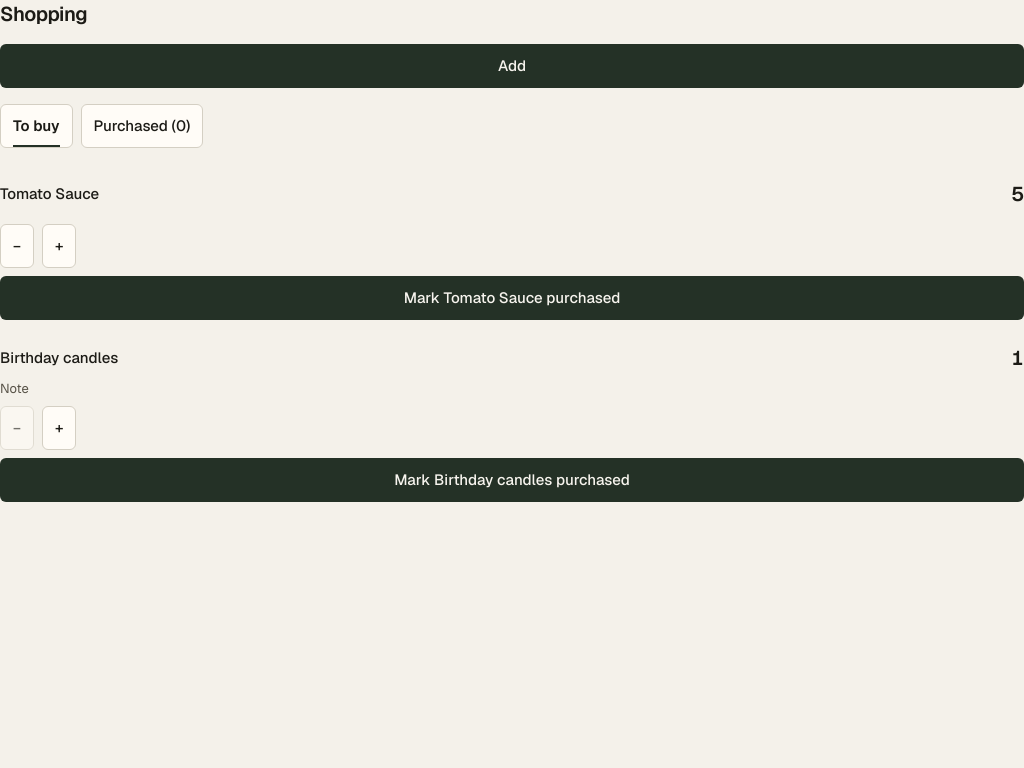
Test: ShoppingOverviewScreen › adds a product shopping item and refreshes lists
This screenshot has width=1024, height=768.
Expected: the heading "Tomato Sauce" is shown, [0,183,99,205]
Click the button "Add": (512, 66) [0,44,1023,88]
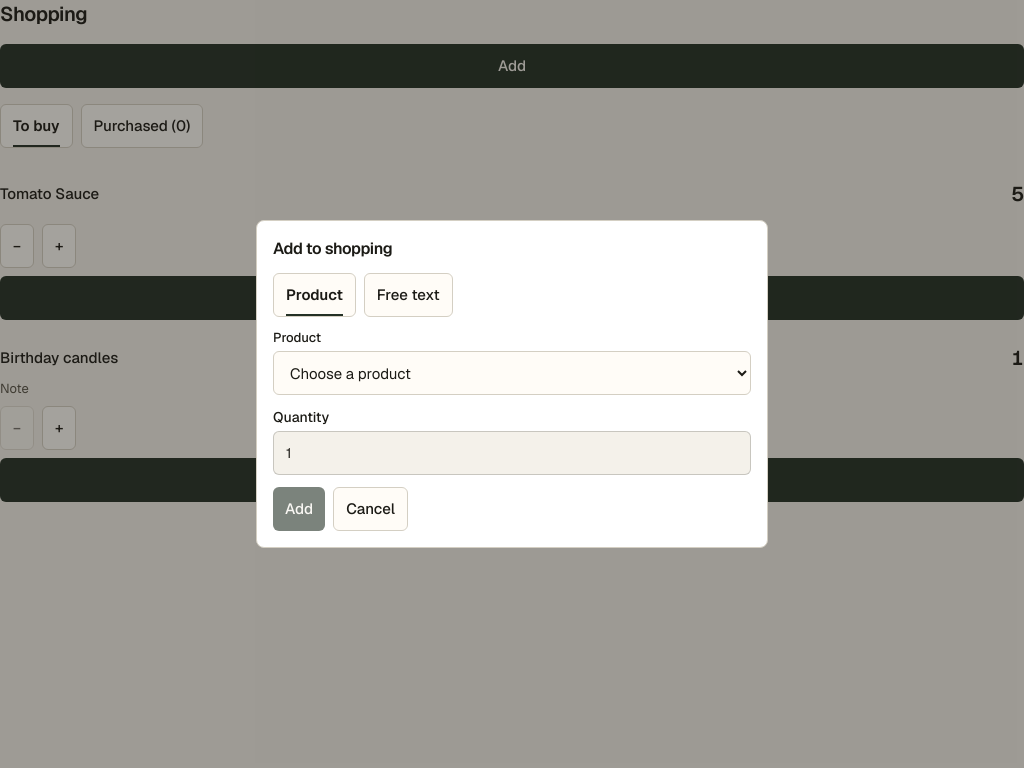
Select "Tomato Sauce" in the dropdown labelled "Product": (512, 373) [273,351,751,395]
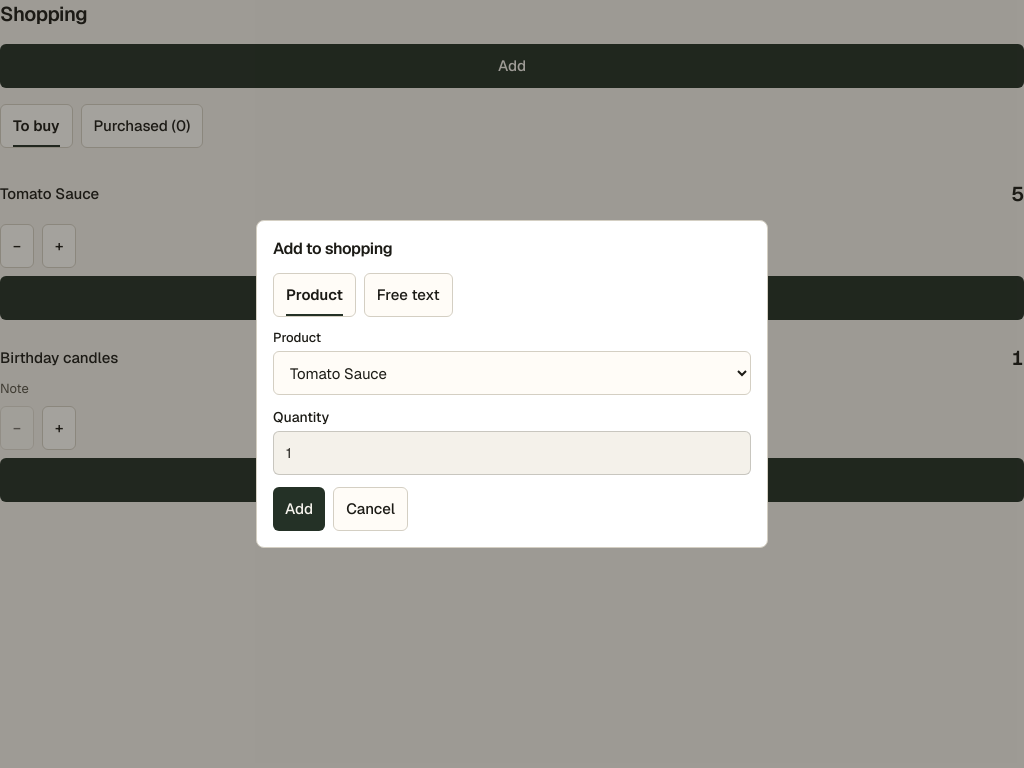
Replace the text in the field labelled "Quantity" with "3": (512, 453) [273,431,751,475]
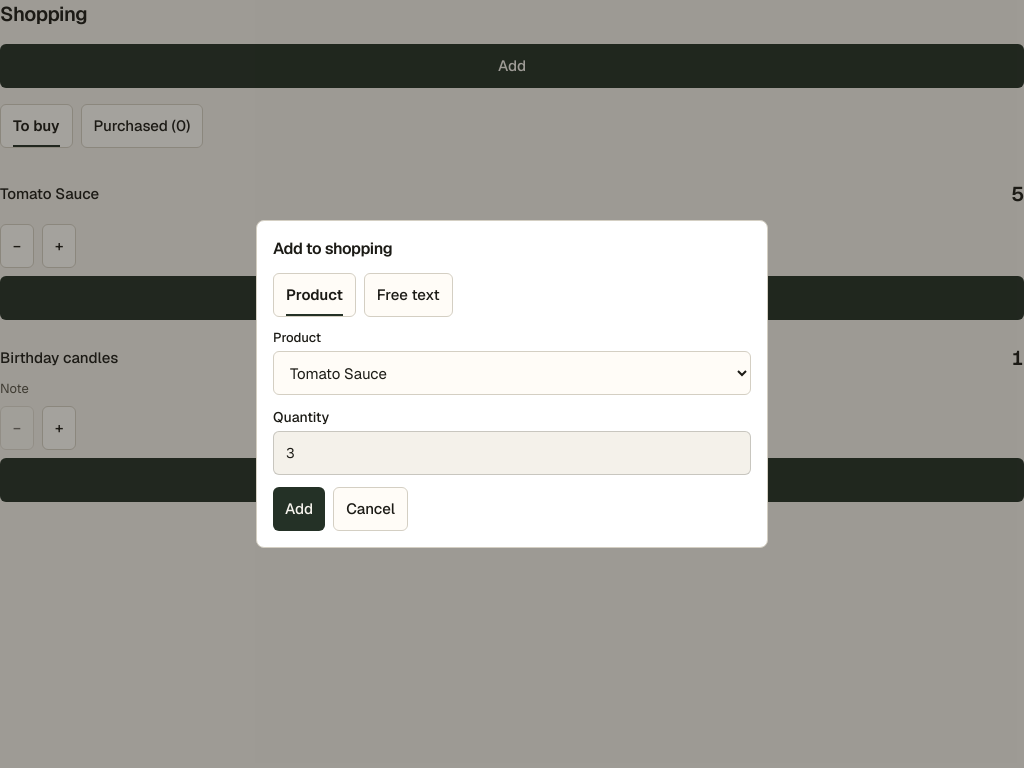
Submit the form "Add", box [273,273,751,531]
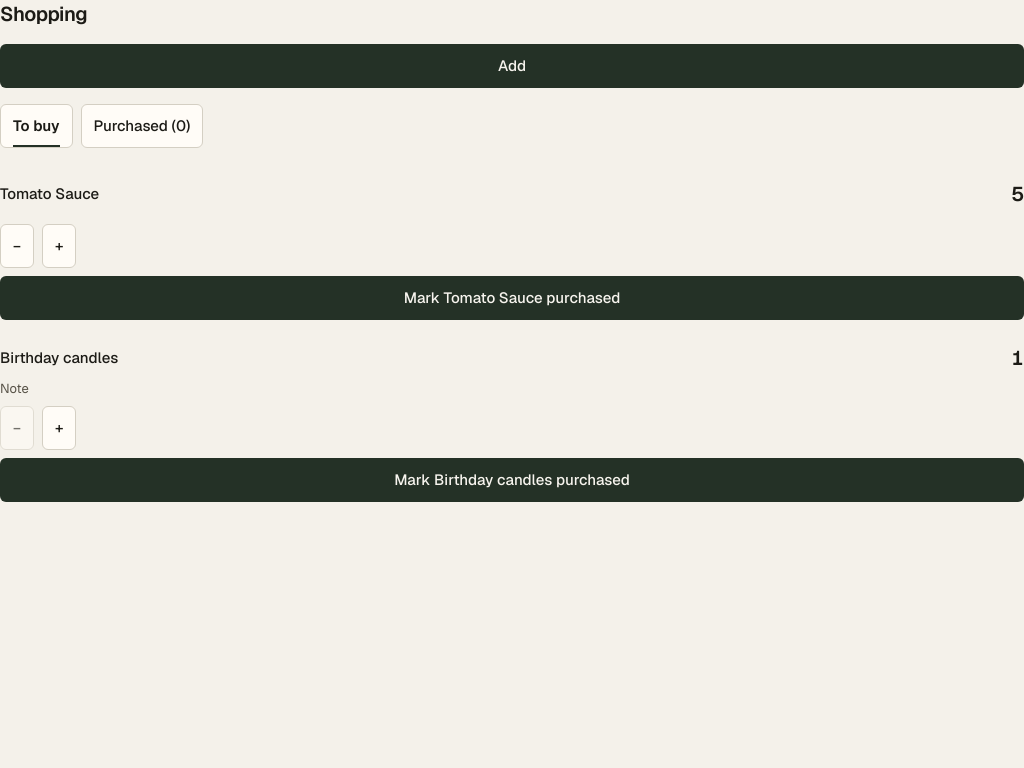
Expected: the heading "Add to shopping" is gone
